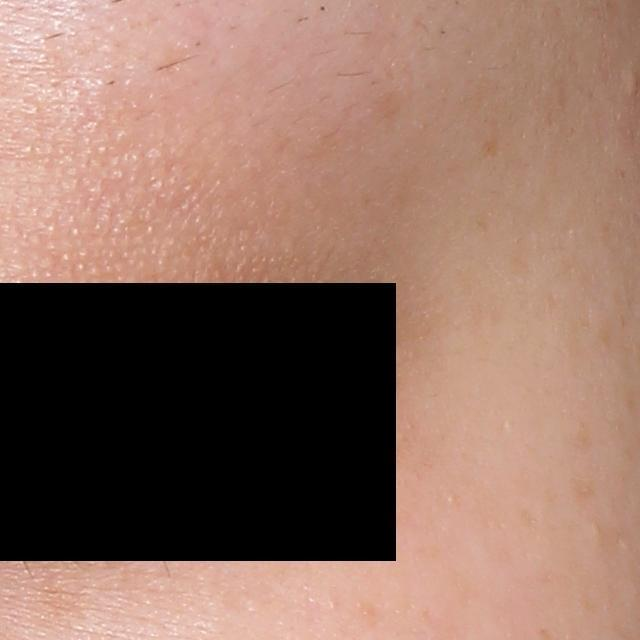melasma: (567, 476, 601, 510), (564, 424, 592, 450)
